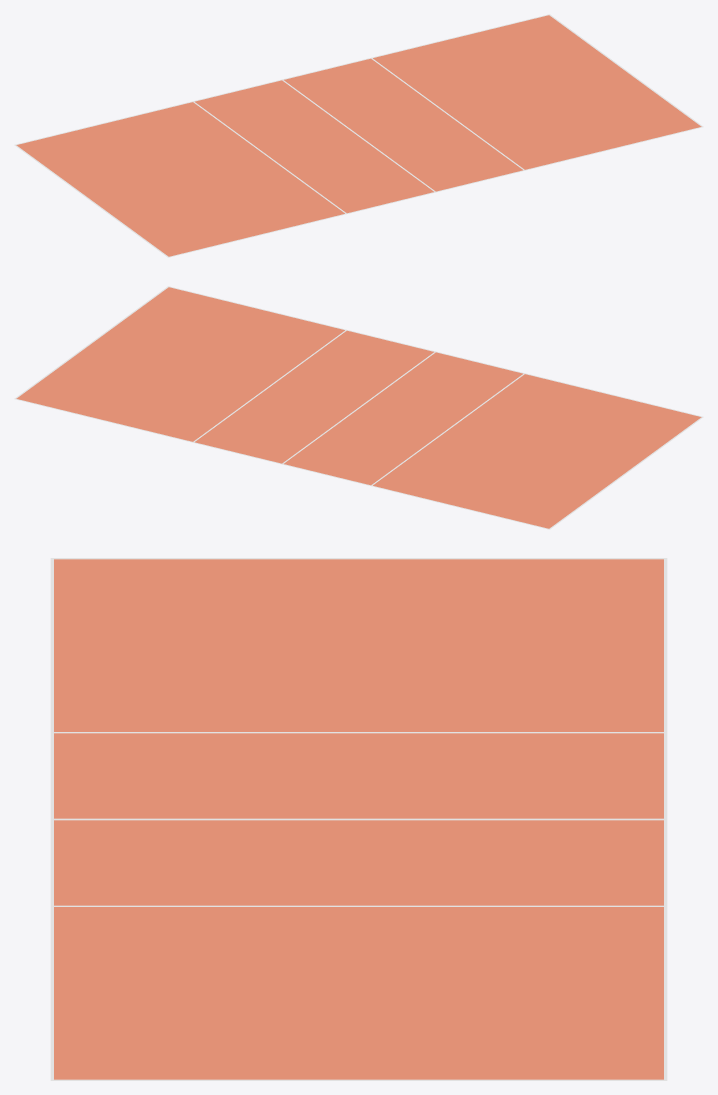
Rendered from court_Inner.fbx.
3 renders of one model, top to bottom at view 1: azimuth 30°, elevation 25°; view 2: azimuth 150°, elevation 25°; view 3: azimuth 270°, elevation 25°, orthographic. The views are drawn at different scales.
Parts seen in each view (by area): view 1: court_main; view 2: court_main; view 3: court_main.
Boxes of the visible parts, bbox=[...] form: court_main: bbox=[14, 14, 703, 257]; court_main: bbox=[14, 286, 703, 529]; court_main: bbox=[50, 558, 667, 1080].
Size of the model in its own units: 1805 by 0.000304 by 900.
